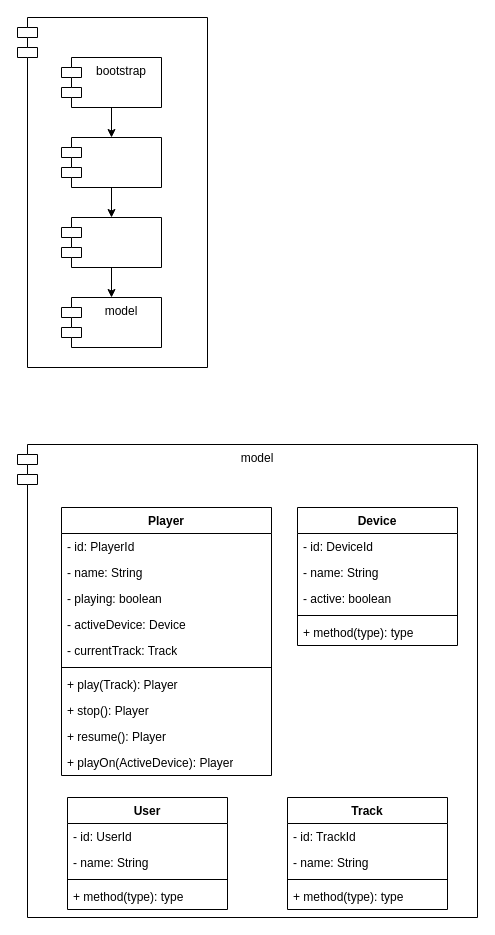
The diagram is 495 pixels wide and 935 high, and some of its shapes have lost their labels. The shapes that lost their labels are listed below. From the top down, each one's box as (x1, y1, x2, y2) in pixels, then its label:
(60, 136, 162, 188): adapter
(16, 16, 208, 368): MusicPlayerWrapper
(60, 216, 162, 268): application
